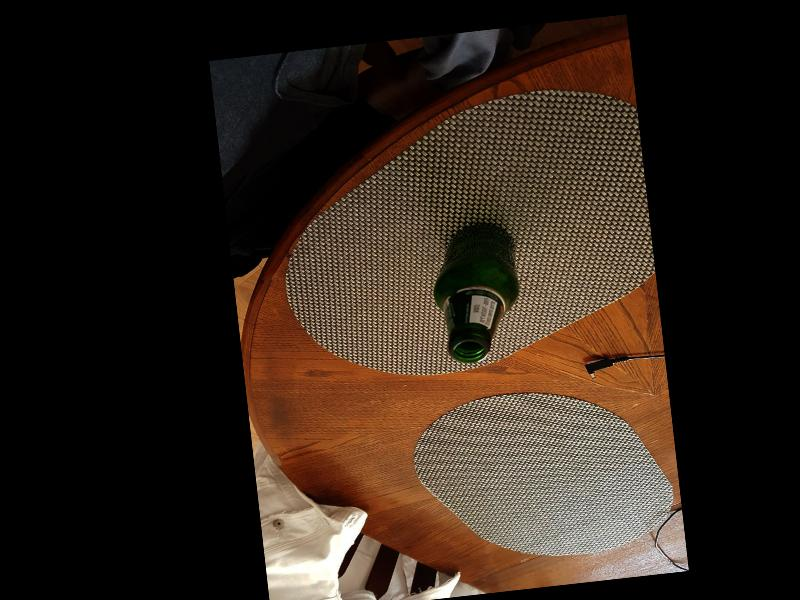Beer: (425, 219, 525, 364)
